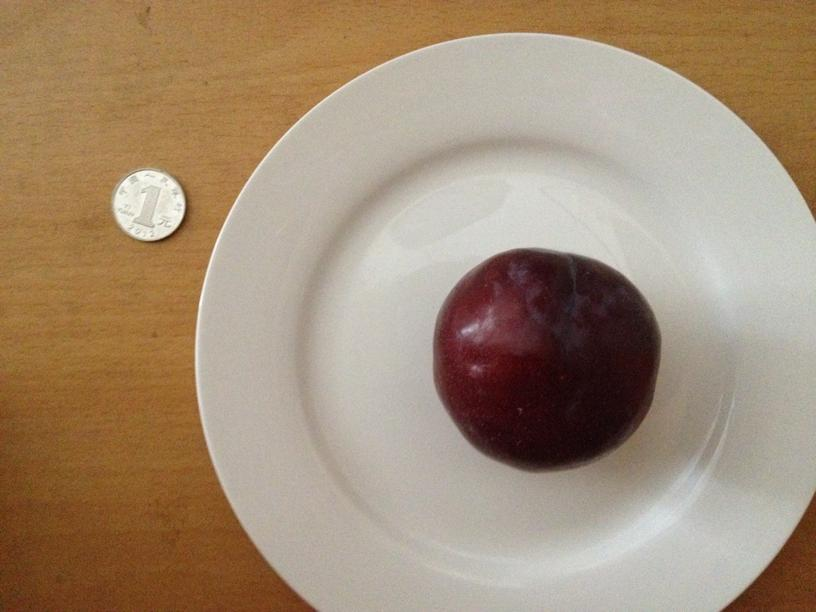coin: (105, 166, 188, 241)
plum: (432, 250, 655, 469)
